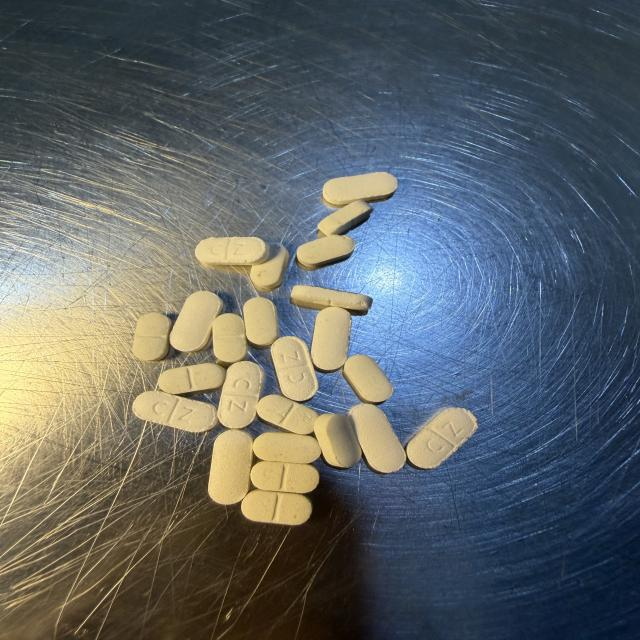pill: (407, 408, 477, 468), (349, 405, 405, 473), (133, 391, 217, 432), (209, 431, 253, 504), (170, 291, 222, 352), (271, 337, 318, 401), (218, 362, 263, 428), (311, 308, 351, 372), (315, 414, 361, 468), (242, 490, 311, 525), (343, 355, 393, 403), (257, 395, 318, 434), (323, 173, 397, 205), (291, 286, 372, 313), (251, 461, 319, 493), (158, 363, 225, 394), (254, 432, 321, 463), (195, 237, 269, 265), (318, 200, 372, 236), (250, 243, 289, 291), (133, 313, 171, 361), (297, 235, 354, 267), (243, 297, 278, 347), (213, 314, 247, 364)
